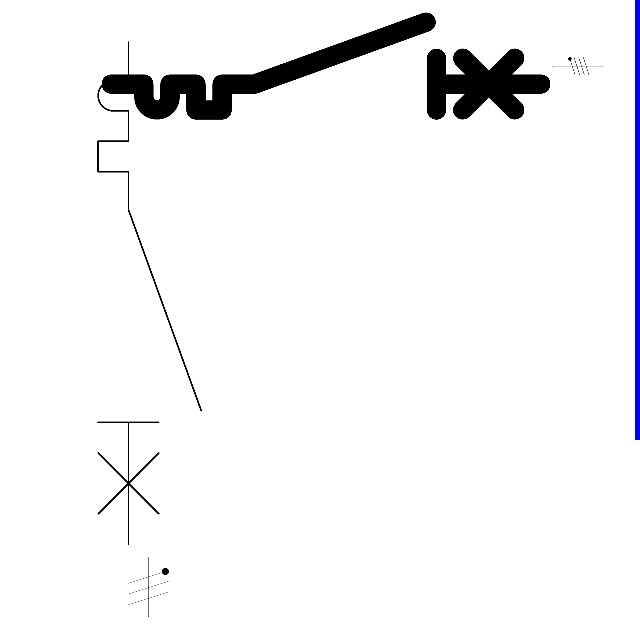interruptor_termomagnetico: (85, 29, 214, 557), (100, 11, 551, 121)
